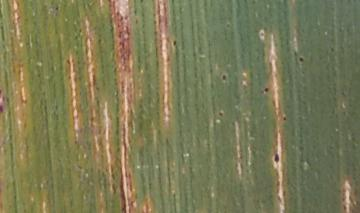tarspot: (273, 151, 281, 164), (124, 24, 131, 36), (1, 25, 6, 41), (297, 55, 305, 63), (262, 86, 270, 94), (117, 14, 124, 23), (117, 29, 123, 39), (1, 1, 4, 20), (281, 115, 288, 123), (172, 38, 178, 47), (221, 73, 227, 82), (53, 5, 60, 12), (259, 30, 265, 38), (1, 102, 5, 114), (65, 58, 71, 66), (329, 46, 335, 53), (217, 110, 223, 117), (115, 9, 120, 17), (225, 22, 231, 28), (1, 88, 3, 99), (106, 1, 112, 4), (139, 1, 144, 4)
